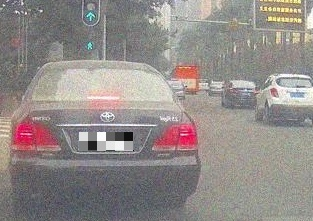L_light: (11, 123, 61, 151)
R_light: (151, 123, 198, 150)
T_light: (87, 95, 120, 101)
day-brake: (9, 60, 201, 207)
plate_1: (79, 132, 134, 151)
